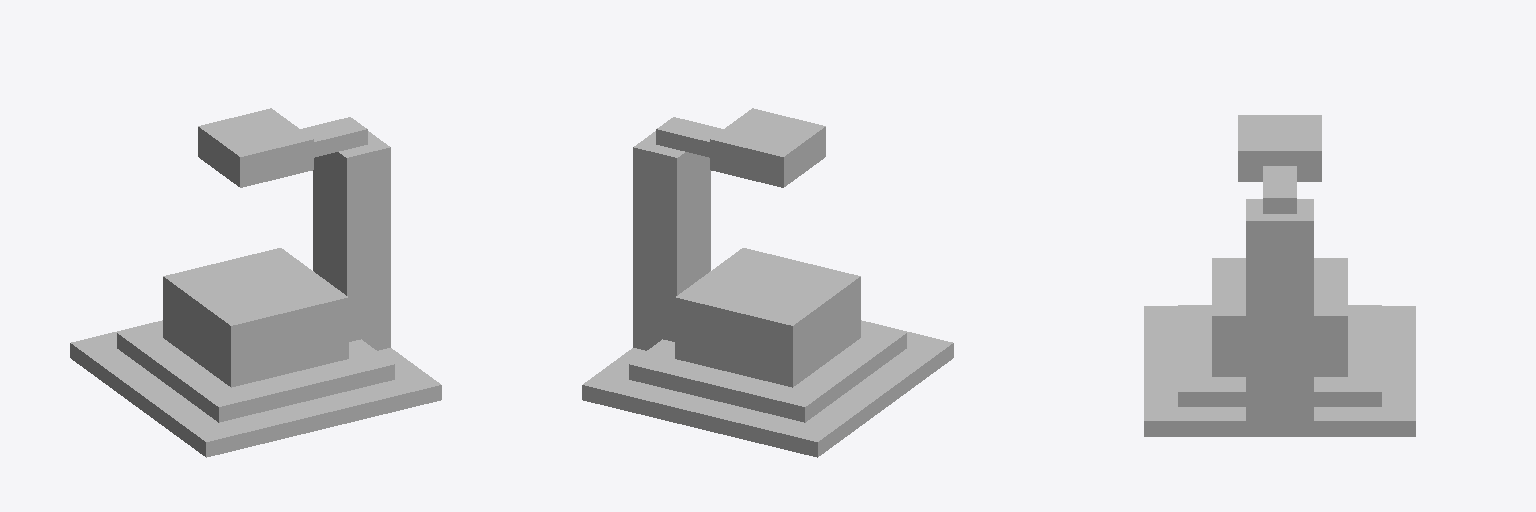
The model's file is centrifuge_base.obj.
3 renders of one model, left to right at view 1: azimuth 30°, elevation 25°; view 2: azimuth 150°, elevation 25°; view 3: azimuth 270°, elevation 25°, orthographic.
Visible parts, largest first — view 1: cube; view 2: cube; view 3: cube.
Part boxes in pixels (x1,y1,x2,y2): cube: (70, 108, 441, 457); cube: (582, 108, 953, 457); cube: (1144, 115, 1415, 436).
Size of the model in its own units: 16 by 16 by 16.